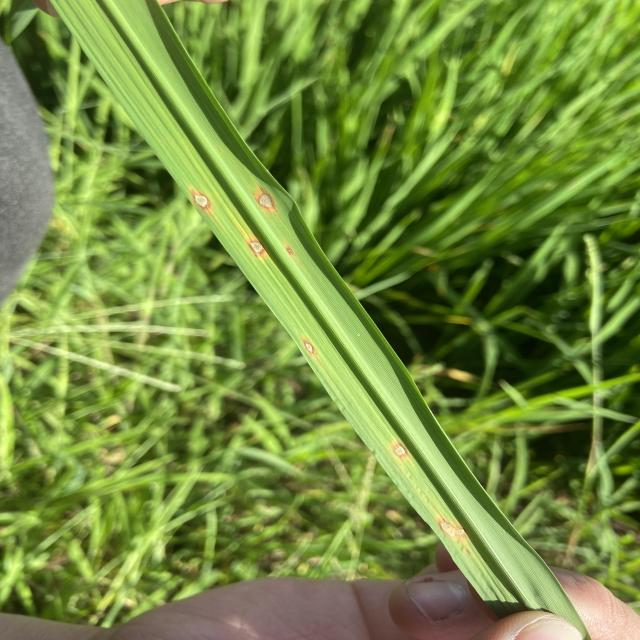Dao on: (440, 523, 465, 537), (258, 192, 274, 209), (194, 194, 208, 207), (251, 242, 265, 254), (394, 446, 406, 457), (305, 342, 313, 354), (288, 248, 291, 253)
